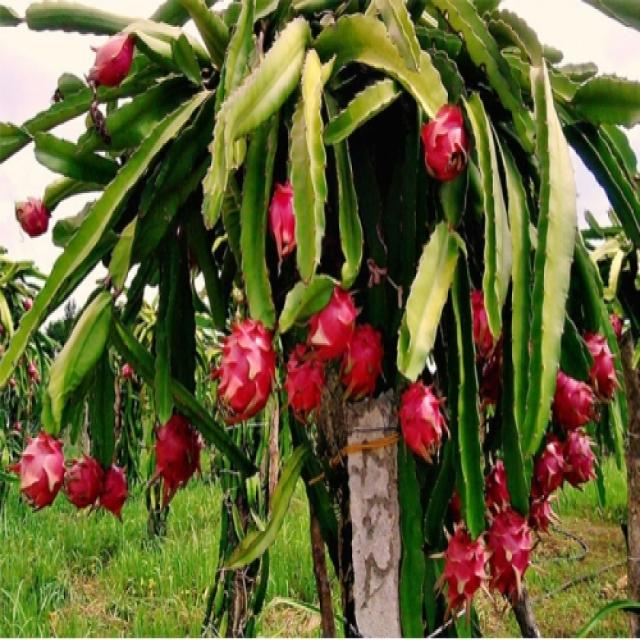Thanh Long: (217, 313, 274, 426), (443, 516, 488, 616), (153, 414, 208, 494), (418, 102, 468, 186), (340, 328, 390, 408), (573, 324, 623, 404), (398, 384, 448, 463), (15, 436, 65, 509), (80, 29, 136, 94), (268, 175, 306, 262), (491, 516, 537, 586), (287, 339, 324, 418), (303, 289, 355, 344), (550, 371, 598, 426), (462, 288, 497, 356), (562, 432, 602, 487), (70, 450, 104, 514), (11, 195, 50, 238), (534, 440, 564, 494), (100, 459, 127, 513), (493, 456, 518, 514), (533, 486, 559, 530)
